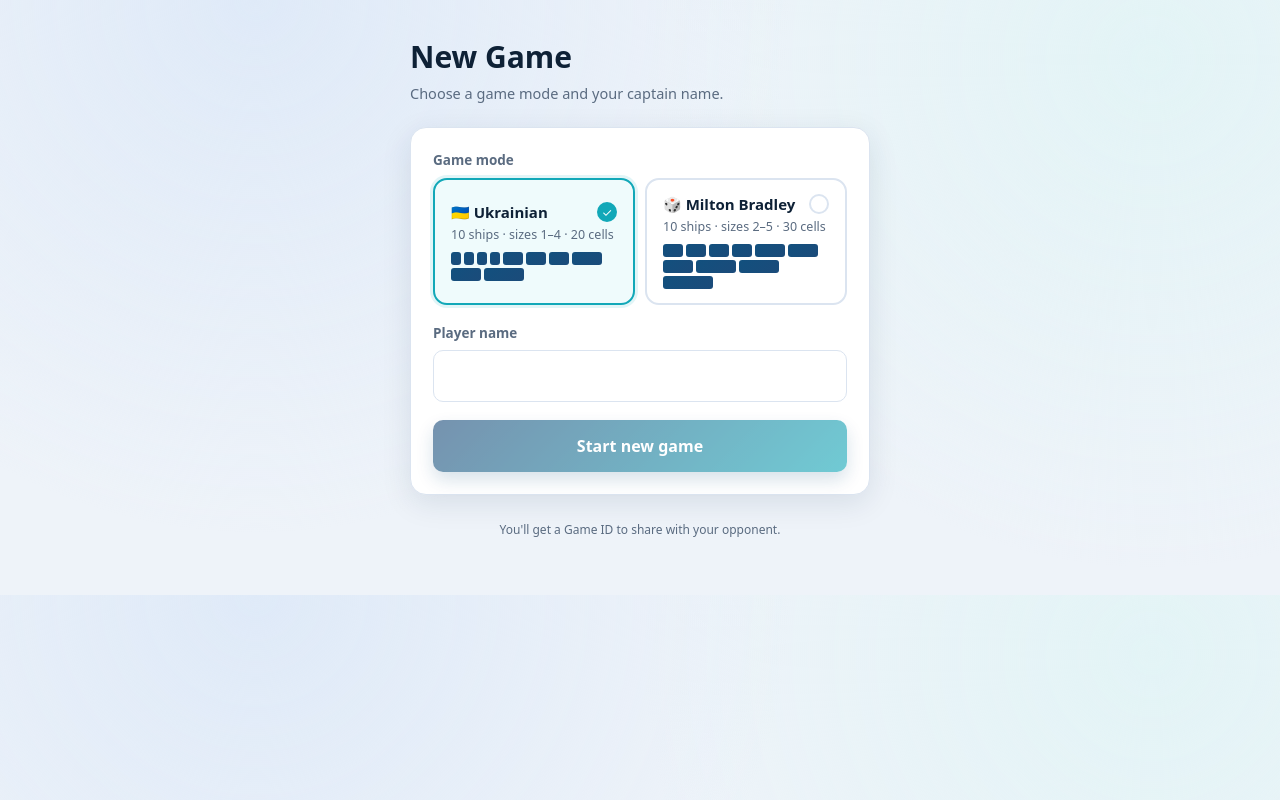
Test: NewGameScreen › shows an inline validation error for a too-short name on blur, and clears it once valid
This screenshot has width=1280, height=800.
Expected: the number of radio buttons is 2, [433,178,635,305]; [645,178,847,305]
Type "A" into the field labelled "Player name" at (640, 376), box [433,350,847,402]
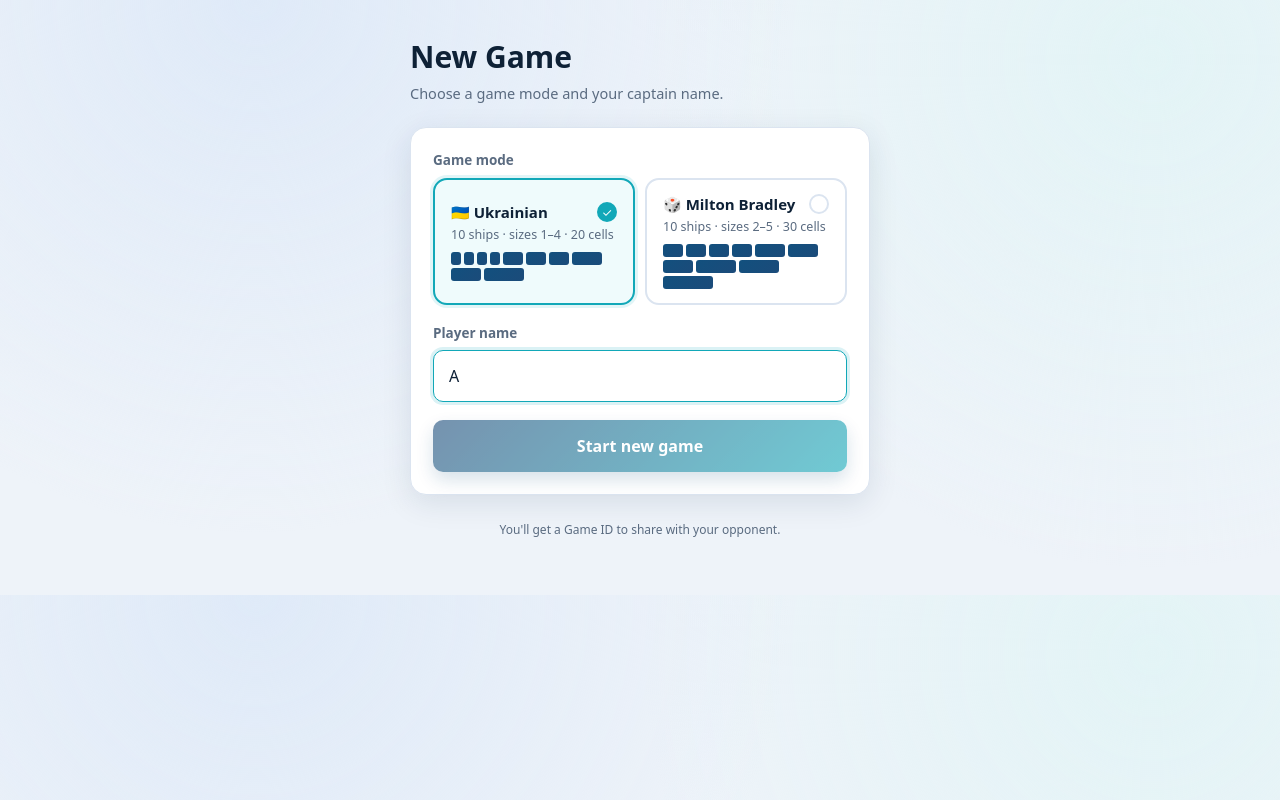
Press Tab
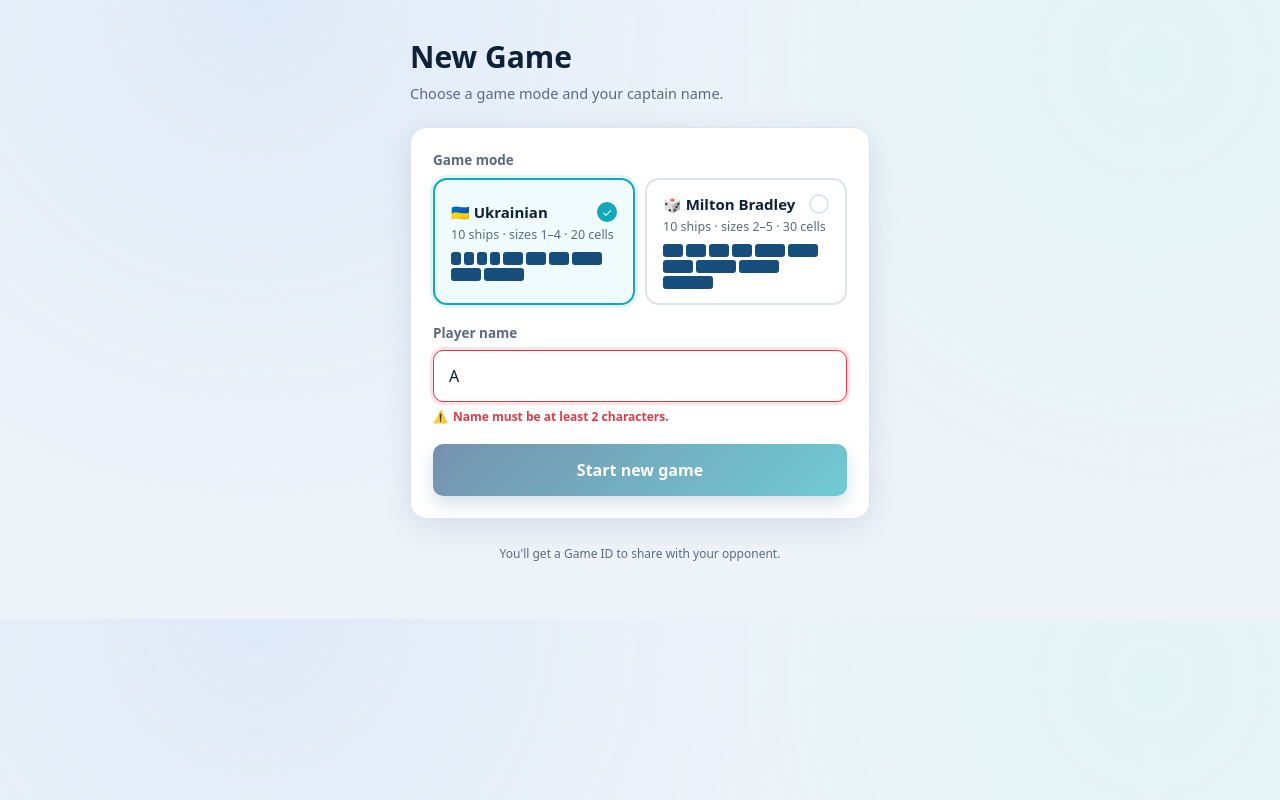
Now the text "Name must be at least 2 characters." is shown, box [453,408,669,425]
Type "lice" into the field labelled "Player name" at (640, 376), box [433,350,847,402]
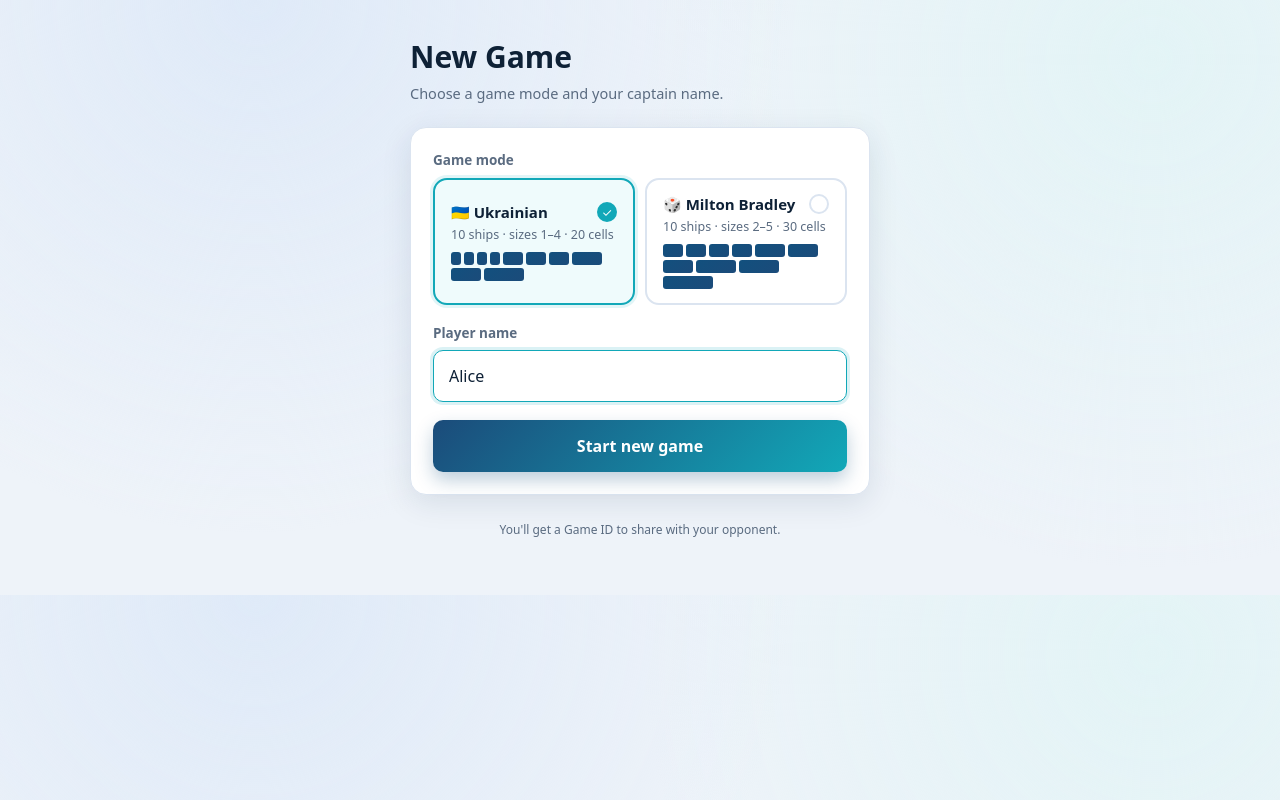
Now the text "Name must be at least 2 characters." is gone
